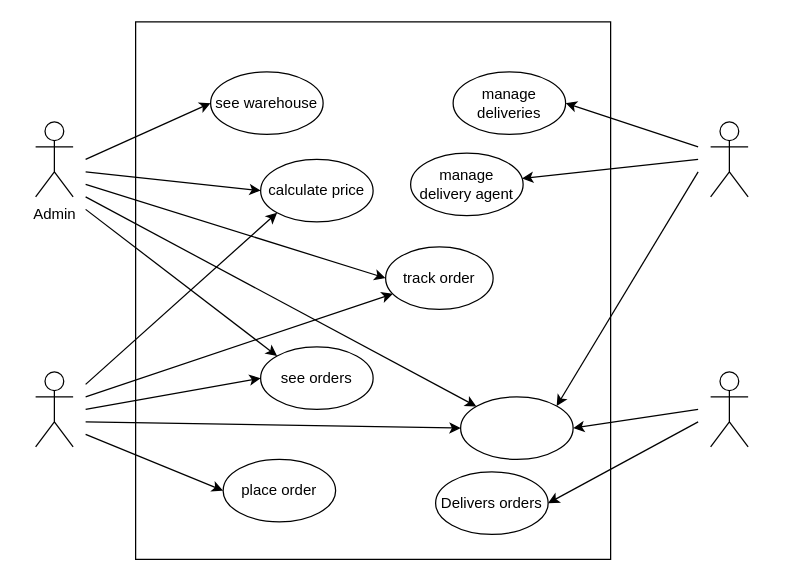
Image size: 790x581. Some labels were removed from this diagram. Each missing label, with the centre of its shape:
"Customer" goes at (x=53, y=409).
"Delivery agent" goes at (x=728, y=409).
"update profile" goes at (x=516, y=427).
"Warehouse manager" goes at (x=728, y=159).
